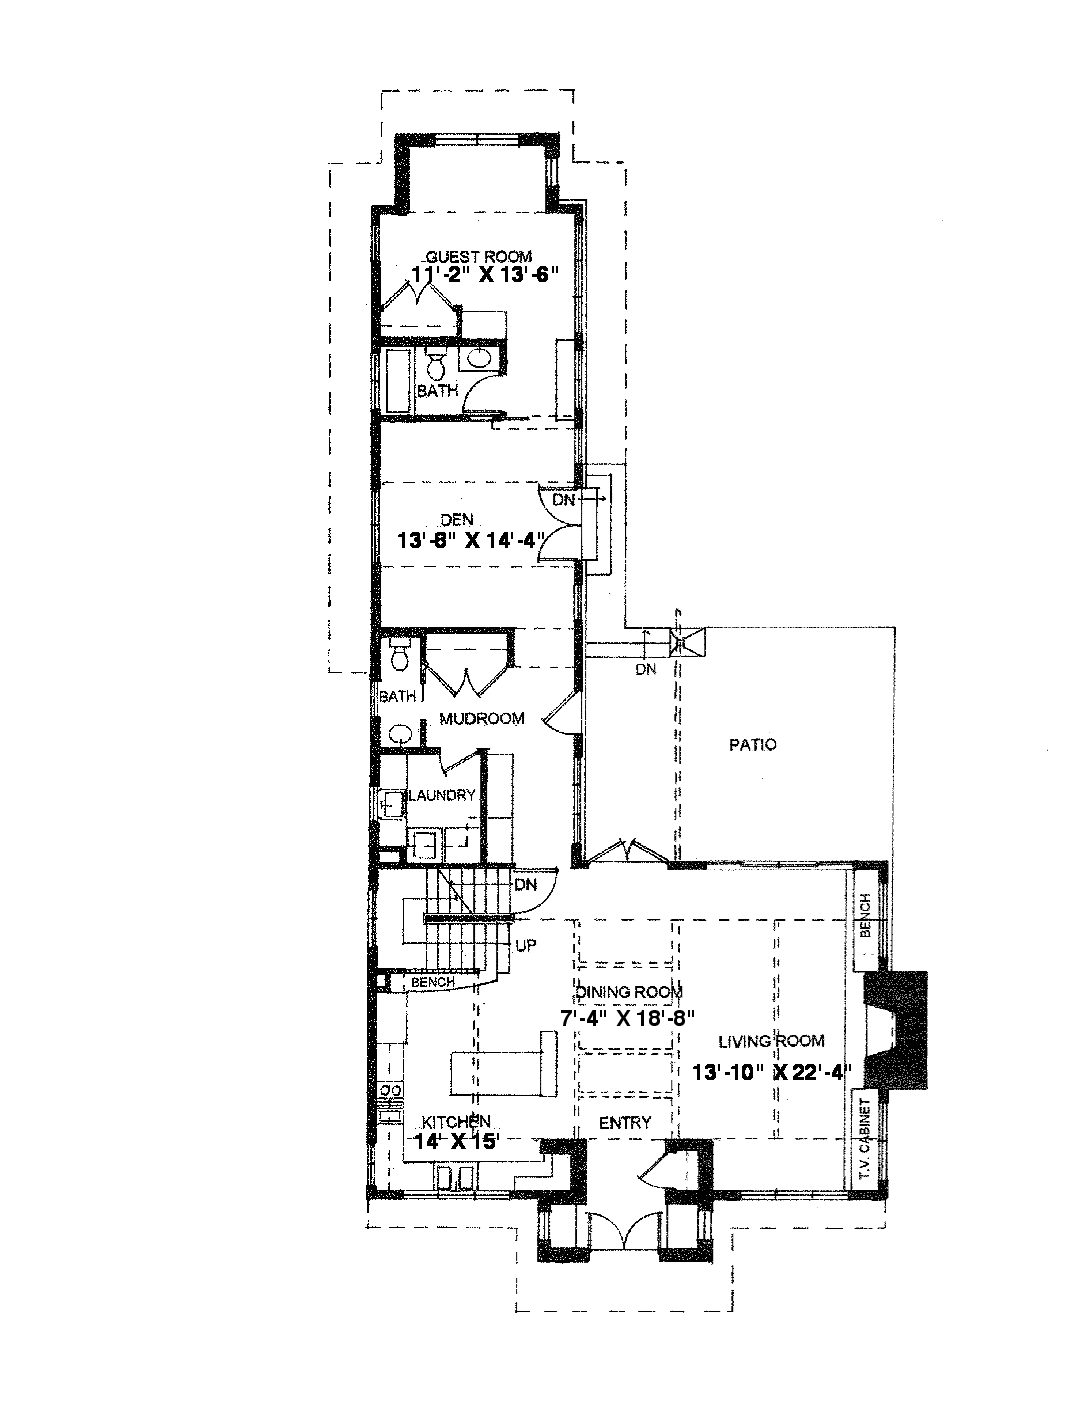door: (525, 475, 591, 569), (585, 1195, 667, 1256), (429, 657, 513, 699), (382, 274, 461, 318), (587, 835, 667, 878), (506, 859, 565, 917), (538, 683, 586, 739), (423, 739, 479, 774), (635, 1147, 683, 1187), (456, 371, 503, 411)
large sink: (385, 626, 421, 680), (416, 344, 453, 386)
small sink: (455, 338, 504, 378), (382, 715, 421, 750)
stairs: (368, 857, 512, 981)
tub: (379, 344, 422, 423)
twin sink: (426, 1157, 489, 1206)
windows: (688, 850, 847, 880), (731, 1177, 855, 1209), (425, 123, 519, 157), (870, 869, 897, 962), (874, 1093, 898, 1192), (567, 739, 589, 847), (362, 477, 386, 571), (359, 869, 382, 955), (358, 345, 385, 409)
